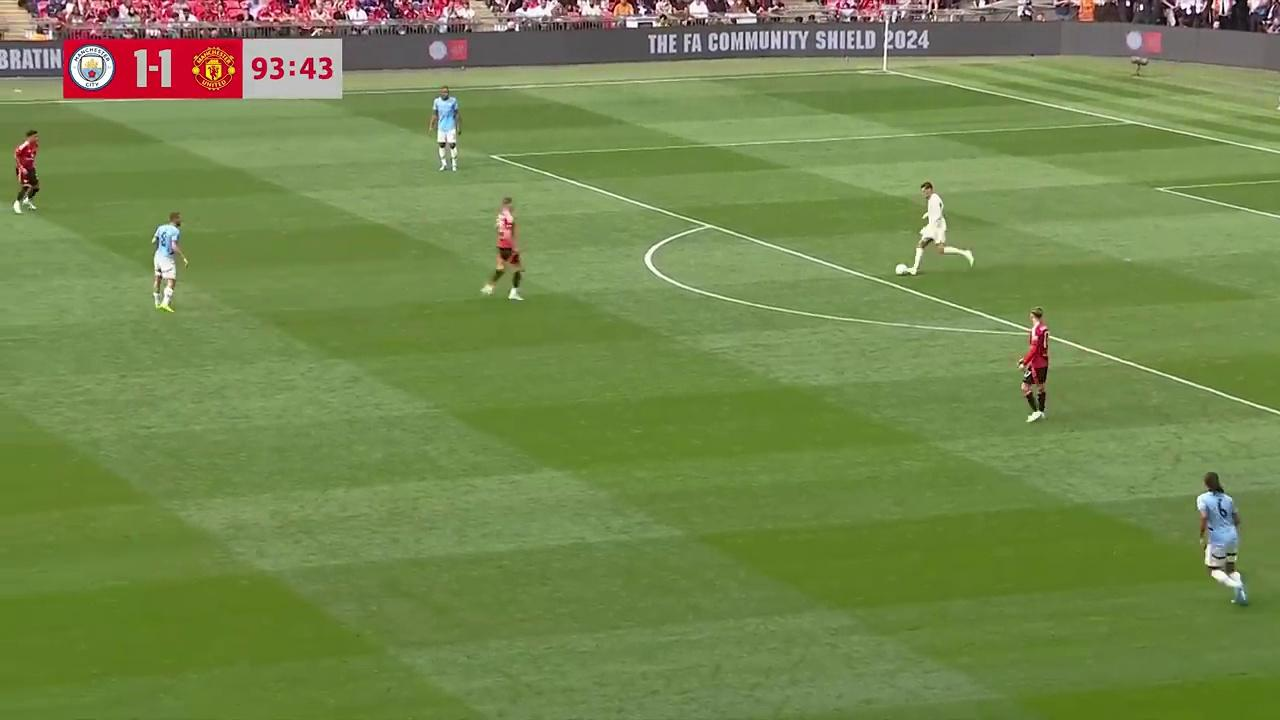ball: (893, 259, 909, 275)
player: (1195, 472, 1248, 605), (479, 197, 525, 300), (1017, 307, 1050, 423), (908, 181, 947, 272), (151, 211, 186, 312), (13, 128, 39, 213), (433, 95, 460, 171)
